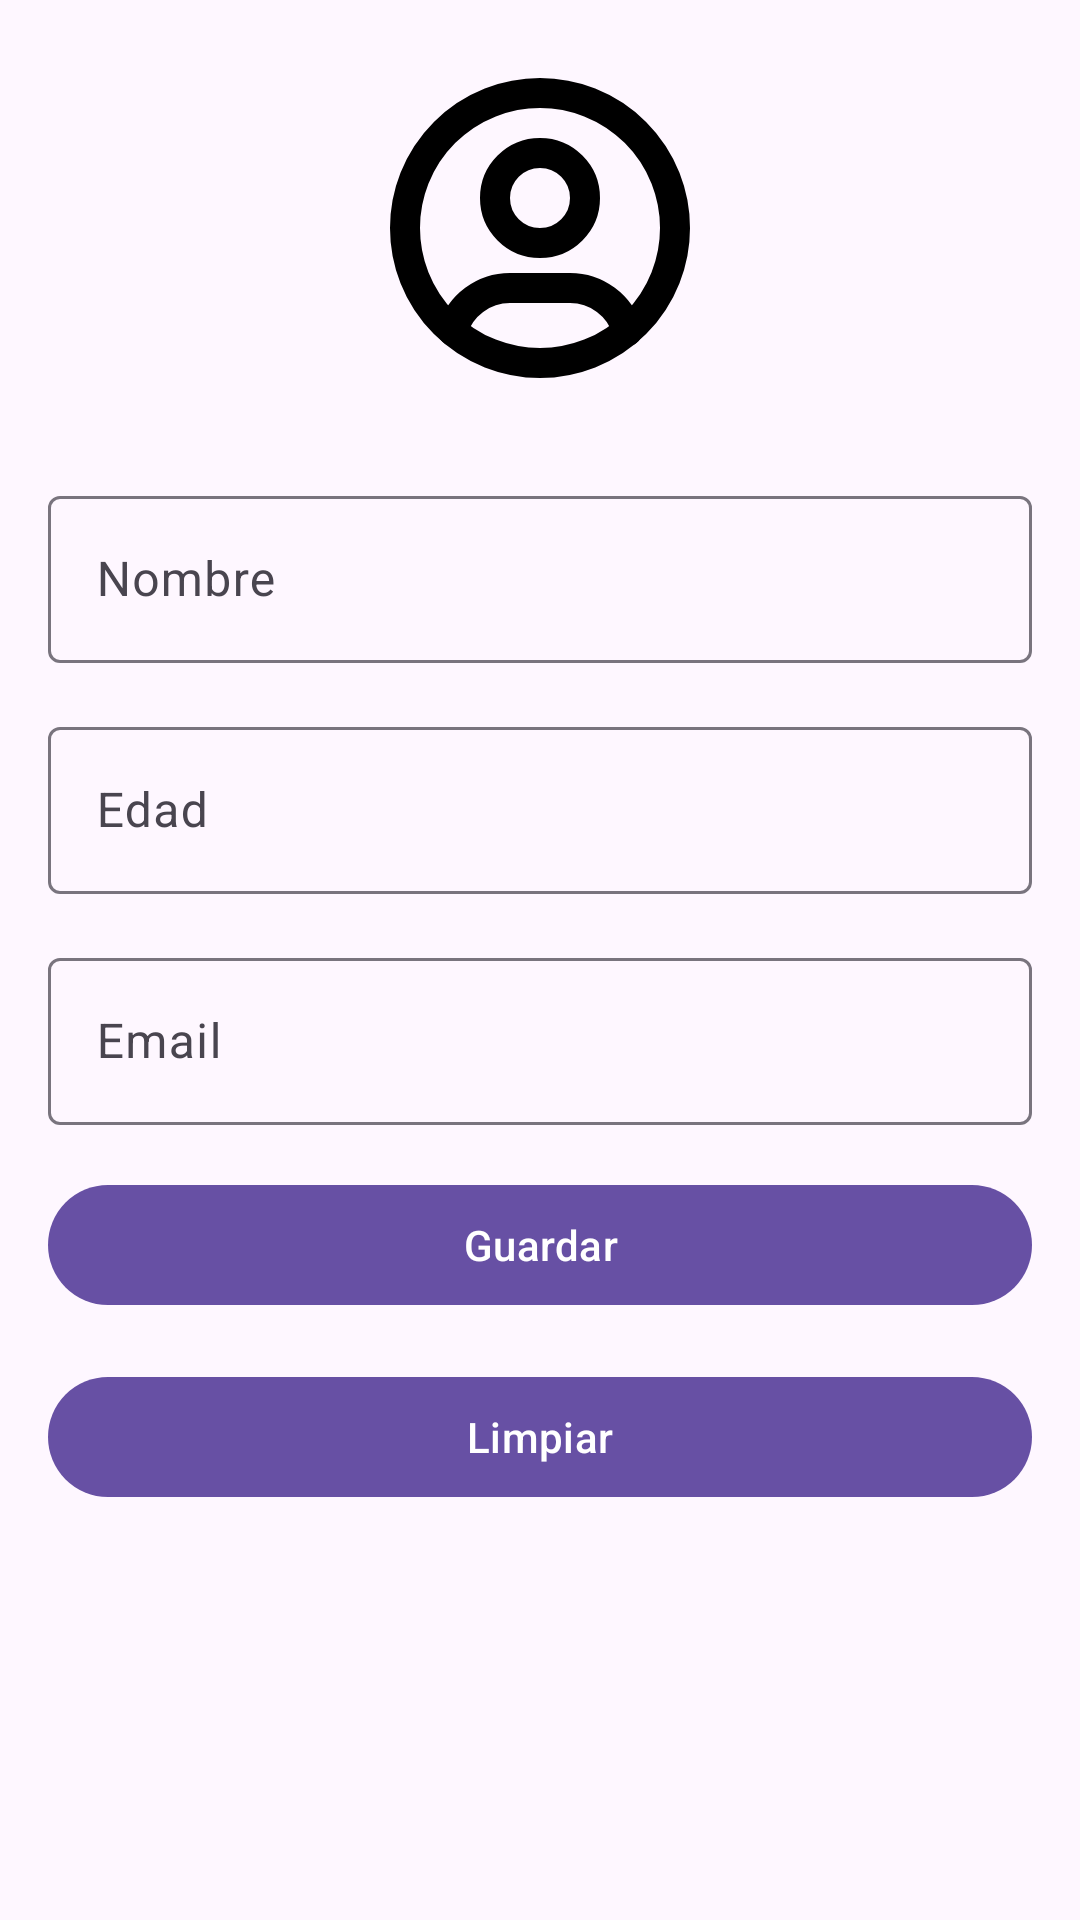

Icons on this 1080×1920 Android screen, each with its box as (left=x1, top=y1, right=x2, bottom=y2):
user circle: (left=390, top=78, right=690, bottom=378)
